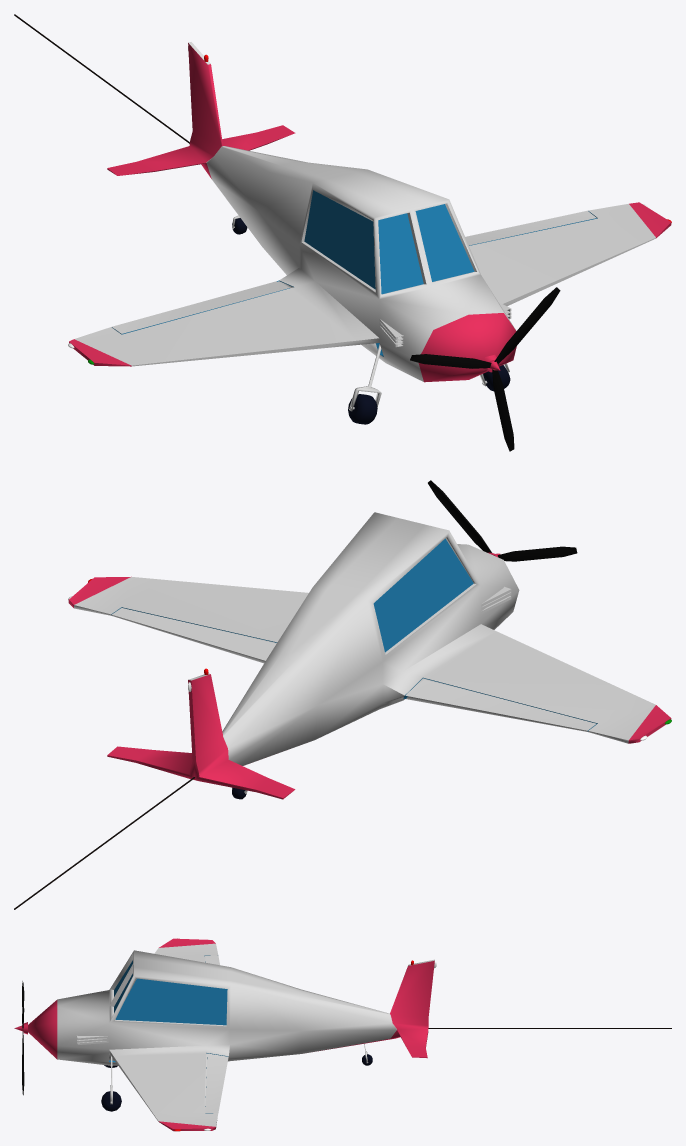
The model's file is cartoon-plane.obj.
3 renders of one model, top to bottom at view 1: azimuth 30°, elevation 25°; view 2: azimuth 150°, elevation 25°; view 3: azimuth 270°, elevation 25°, orthographic. The views are drawn at different scales.
Parts seen in each view (by area): view 1: Hull, Propeller, TyreRight; view 2: Hull, Propeller; view 3: Hull, Propeller, TyreLeft.
Boxes of the visible parts, bbox=[...] form: Hull: bbox=[69, 42, 671, 382]; Propeller: bbox=[410, 287, 560, 451]; TyreRight: bbox=[348, 394, 377, 424]; Hull: bbox=[68, 512, 671, 799]; Propeller: bbox=[428, 480, 577, 561]; Hull: bbox=[28, 938, 434, 1131]; Propeller: bbox=[14, 981, 27, 1095]; TyreLeft: bbox=[101, 1091, 121, 1111].
Size of the model in its own units: 8.77 by 2.74 by 12.68.
